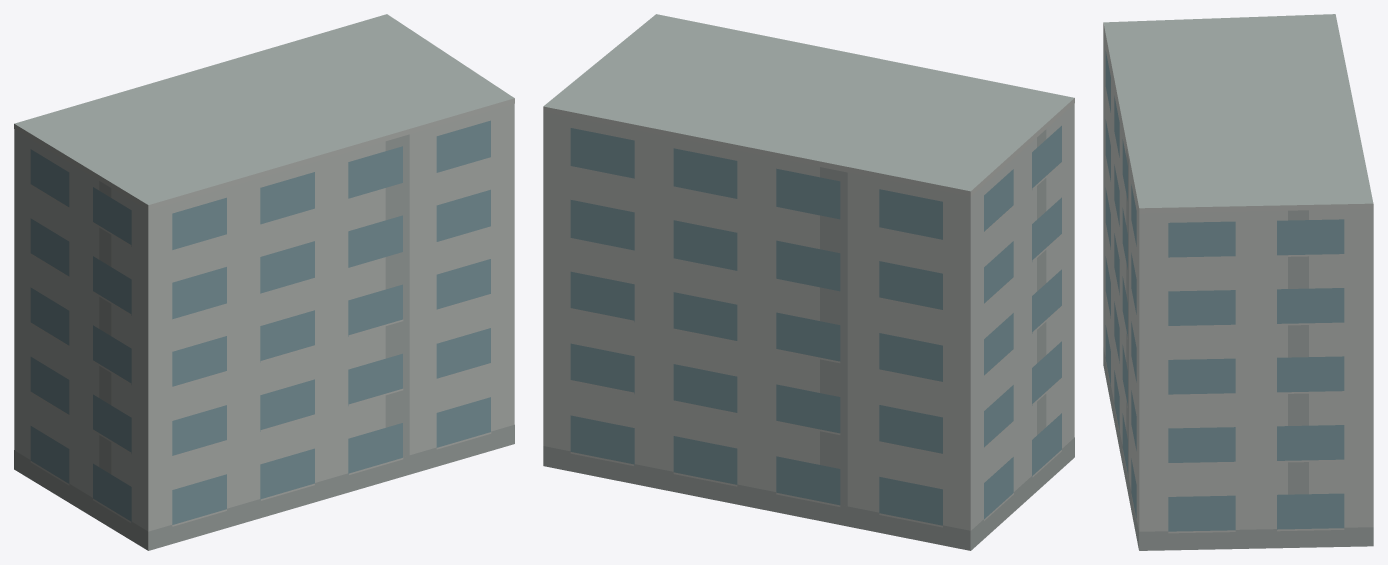
The model's file is survey-upis-32964362.glb.
The picture shows the model from 3 angles, left to right: view 1: azimuth 30°, elevation 25°; view 2: azimuth 150°, elevation 25°; view 3: azimuth 270°, elevation 25°; orthographic projection. The views are drawn at different scales.
Visible parts, largest first — view 1: survey-upis-32964362.tmp; view 2: survey-upis-32964362.tmp; view 3: survey-upis-32964362.tmp.
Boxes of the visible parts, x1=… form: survey-upis-32964362.tmp: x1=14, y1=14, x2=514, y2=550; survey-upis-32964362.tmp: x1=543, y1=14, x2=1074, y2=550; survey-upis-32964362.tmp: x1=1103, y1=14, x2=1373, y2=550.
Size of the model in its own units: 18.91 by 15.55 by 11.12.
